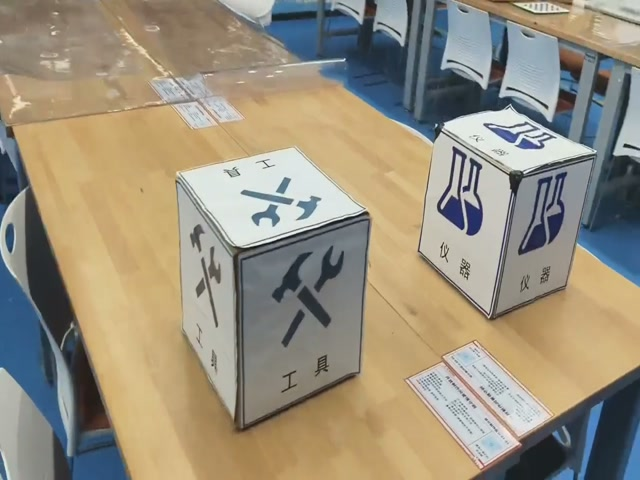Cube_ins: (439, 107, 594, 180)
Cube_tool: (176, 148, 370, 256)
